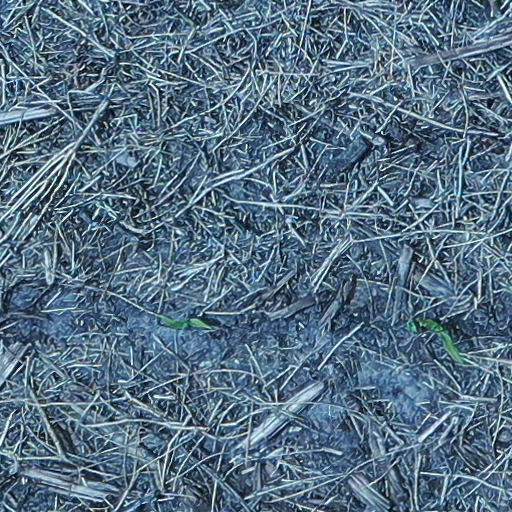planta: (419, 319, 463, 362), (162, 316, 210, 327)
